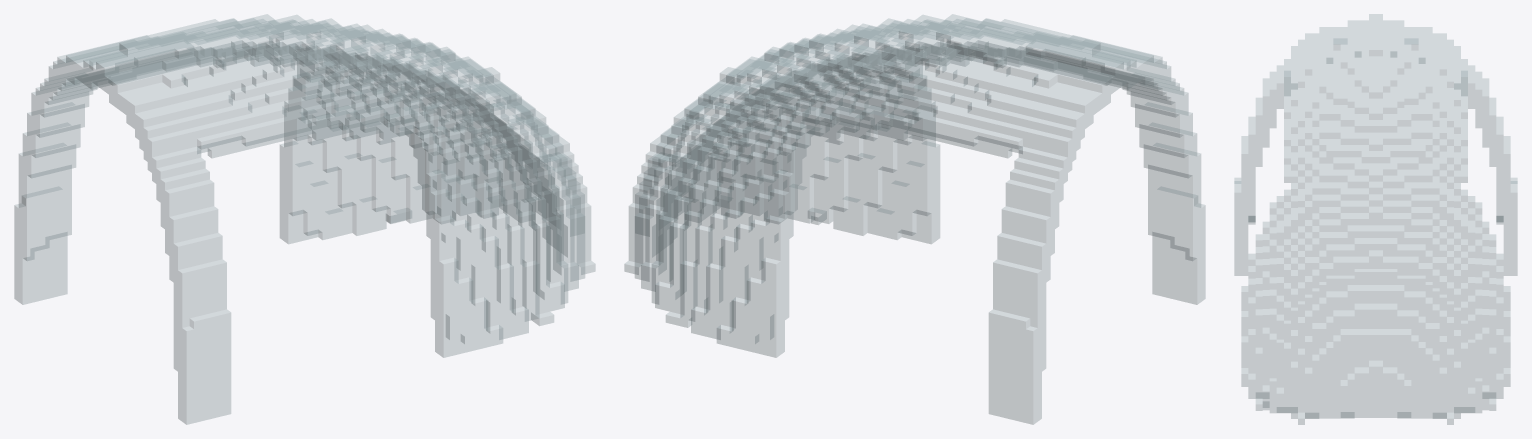
File: light_helicopter_canopy.glb
3 views of the same model, side by side, from view 1: azimuth 30°, elevation 25°; view 2: azimuth 150°, elevation 25°; view 3: azimuth 270°, elevation 25° (orthographic). The views are drawn at different scales.
Parts seen in each view (by area): view 1: body:compound; view 2: body:compound; view 3: body:compound.
Part boxes in pixels (x1,y1,x2,y2): body:compound: (14,14,595,424); body:compound: (624,14,1205,424); body:compound: (1234,14,1517,424).
Size of the model in its own units: 1.94 by 1.19 by 1.25.
